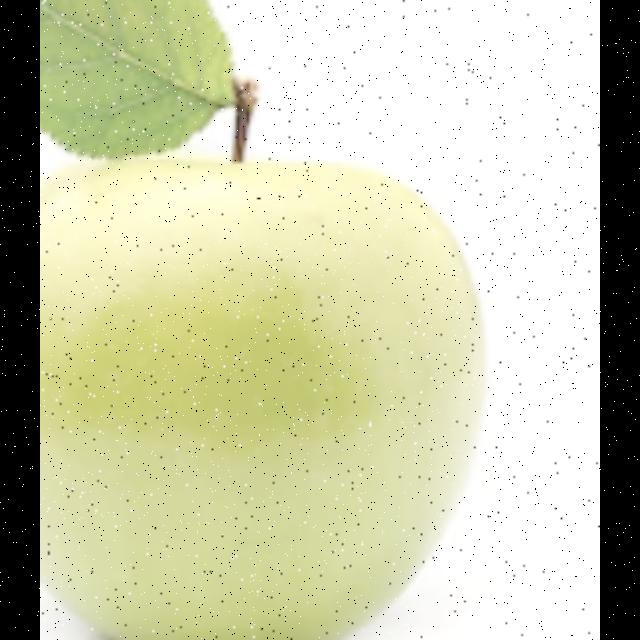Apel Segar: (40, 145, 492, 640)
